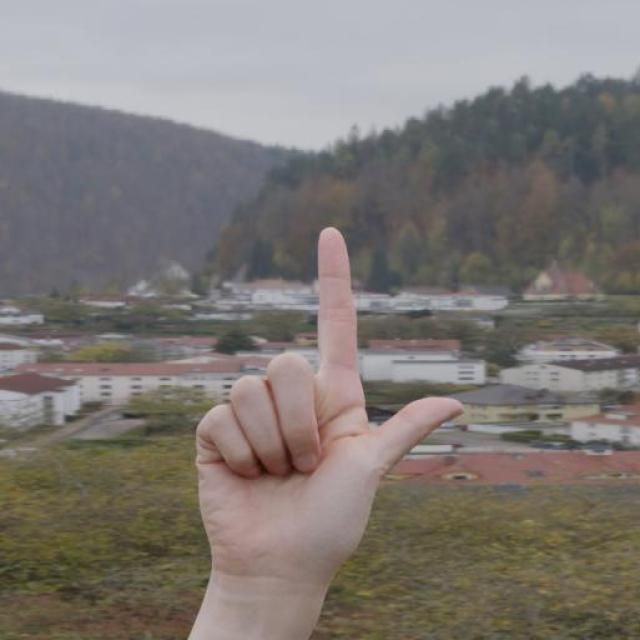L: (198, 224, 469, 640)
